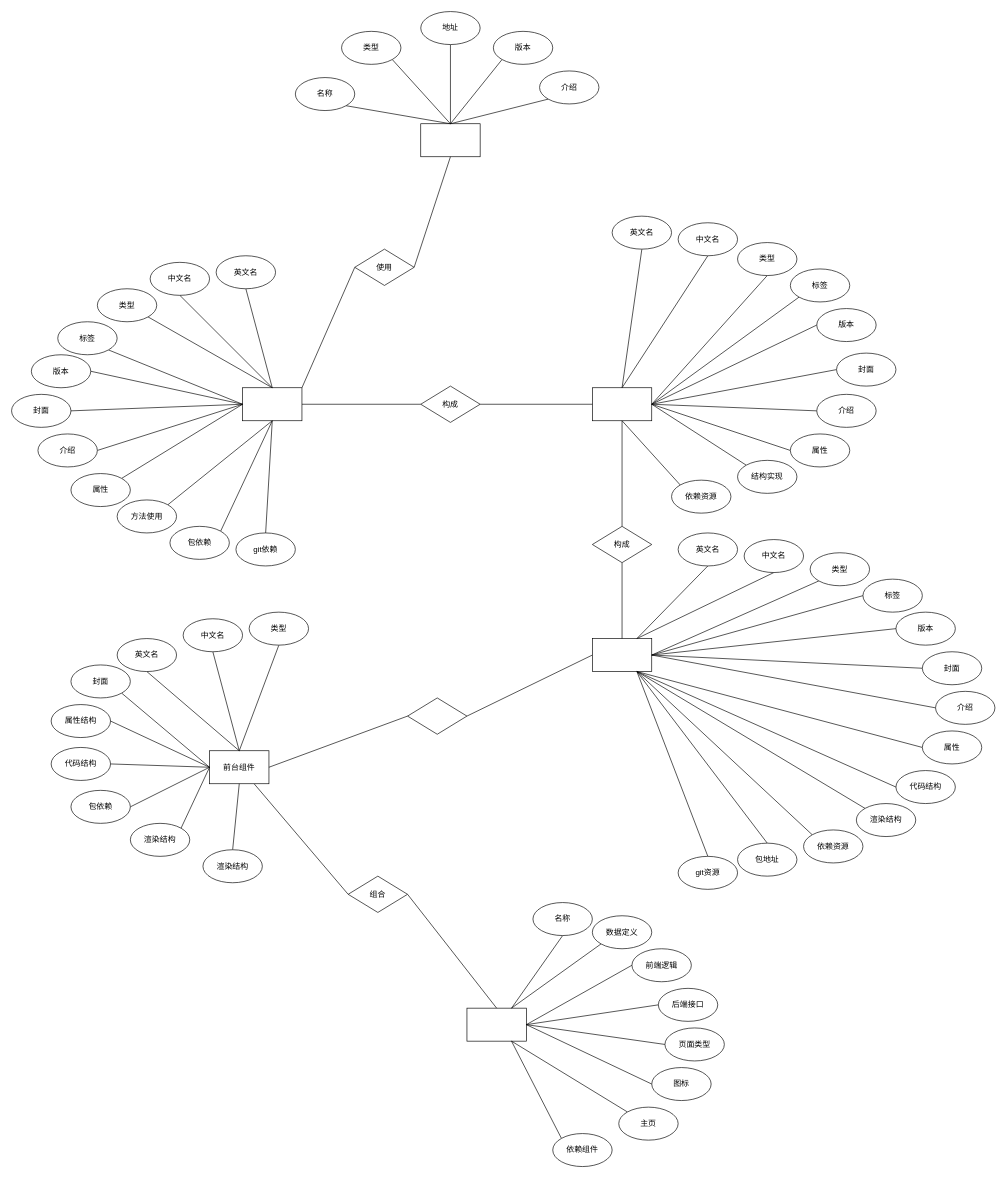
Image size: 1007x1178. Some labels were removed from this diagram. The shapes that lost their labels are listed below. From the top down, each one's box as (x1, y1, x2, y2) in pixels, then its label:
(420, 123, 480, 157): 组件库
(242, 387, 302, 421): 最小方法
(592, 387, 652, 421): 原子方法
(592, 638, 652, 672): 原子组件
(407, 697, 467, 734): 转换
(466, 1007, 526, 1041): 页面
